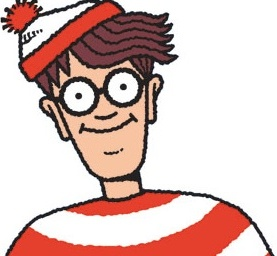waldo: (5, 1, 272, 253), (7, 1, 177, 197)
